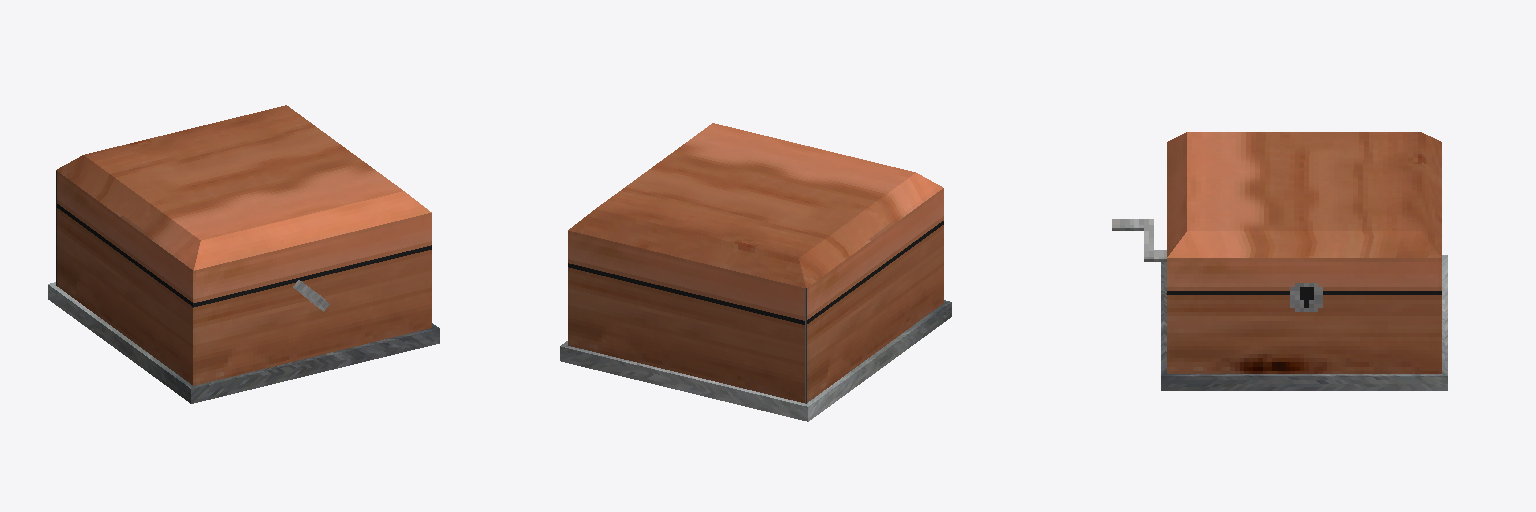
3 views of the same model, side by side, from view 1: azimuth 30°, elevation 25°; view 2: azimuth 150°, elevation 25°; view 3: azimuth 270°, elevation 25° (orthographic).
Visible parts, largest first — view 1: Cube; view 2: Cube; view 3: Cube.
Boxes of the visible parts, x1,y1,x2,y2 form: Cube: [48, 105, 439, 403]; Cube: [560, 123, 951, 421]; Cube: [1112, 132, 1447, 390].
Size of the model in its own units: 2.09 by 1.19 by 2.44.
Materials: 1 (1 with a texture image).